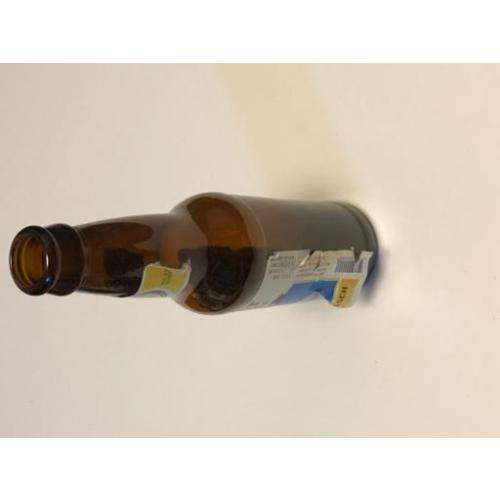glass: (13, 195, 379, 311)
